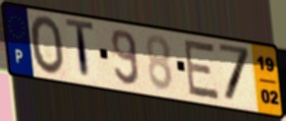7: (217, 41, 253, 107)
8: (144, 33, 175, 95)
9: (110, 28, 140, 88)
E: (183, 37, 221, 102)
O: (28, 14, 67, 77)
T: (64, 17, 96, 85)
